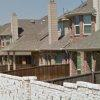Chimney: (40, 2, 69, 51)
